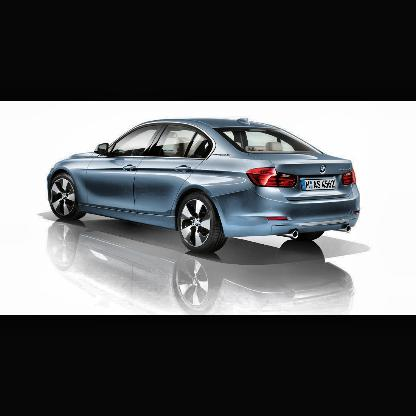BMW ActiveHybrid 5 Sedan 2012: (48, 117, 362, 254)
